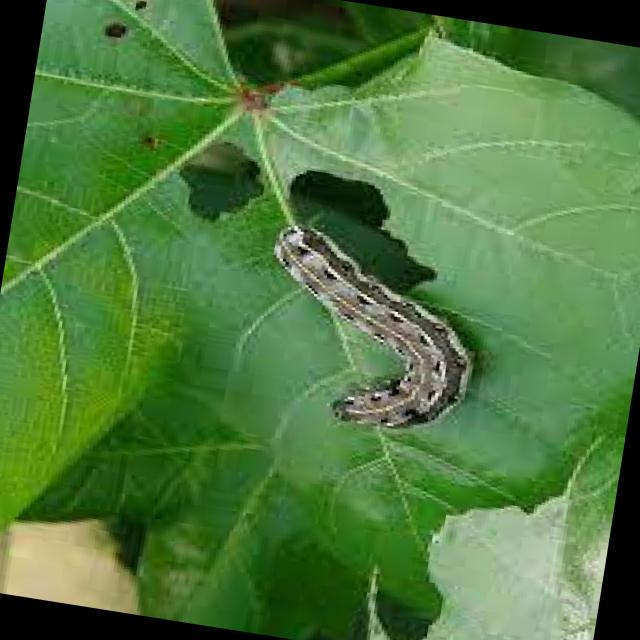Armyworm: (238, 222, 513, 475)
Armyworm_damage: (145, 130, 288, 235)
